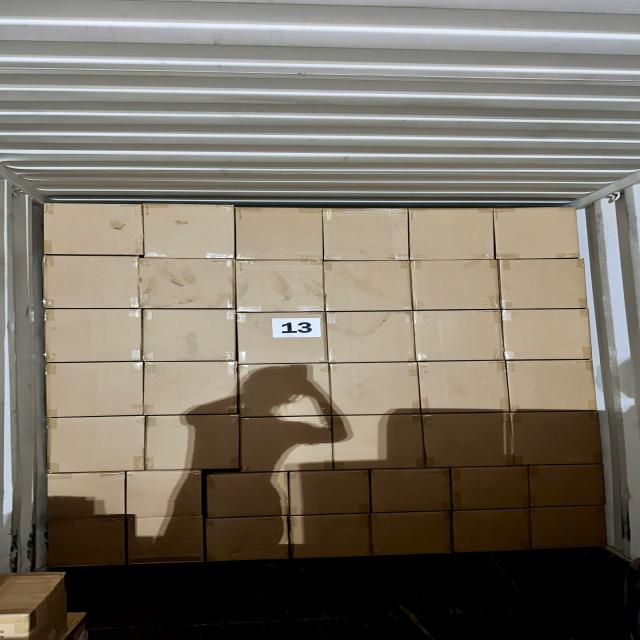Carton: (38, 199, 146, 256), (147, 412, 245, 470), (47, 415, 145, 473), (46, 363, 145, 420), (240, 412, 334, 472), (44, 309, 142, 365), (143, 200, 234, 260), (143, 358, 239, 414), (44, 254, 140, 310), (332, 414, 424, 472), (511, 409, 603, 466), (241, 364, 334, 420), (138, 257, 236, 310), (141, 310, 237, 364), (425, 411, 513, 469), (327, 359, 418, 414), (420, 358, 512, 412), (238, 204, 326, 260), (237, 313, 328, 367), (324, 312, 416, 365), (236, 260, 325, 314), (416, 311, 506, 364), (502, 311, 592, 364), (508, 357, 596, 411), (410, 205, 496, 260), (323, 206, 410, 260), (322, 261, 411, 313), (498, 204, 583, 258), (499, 259, 588, 310), (414, 259, 502, 310), (42, 519, 127, 570), (130, 517, 207, 568), (208, 518, 292, 564), (206, 472, 288, 518), (44, 472, 124, 519), (288, 470, 369, 516), (292, 515, 373, 561), (453, 466, 532, 513), (373, 513, 452, 560), (453, 511, 531, 558), (128, 470, 205, 517), (369, 468, 449, 513), (532, 508, 609, 554), (532, 464, 608, 509)
